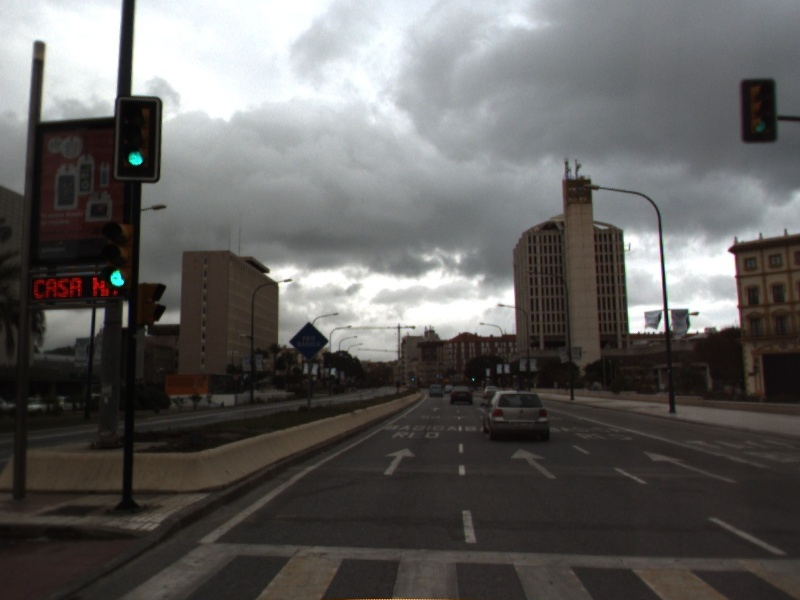STRAIGHT: (640, 449, 740, 486), (508, 446, 559, 482), (381, 445, 418, 477)
